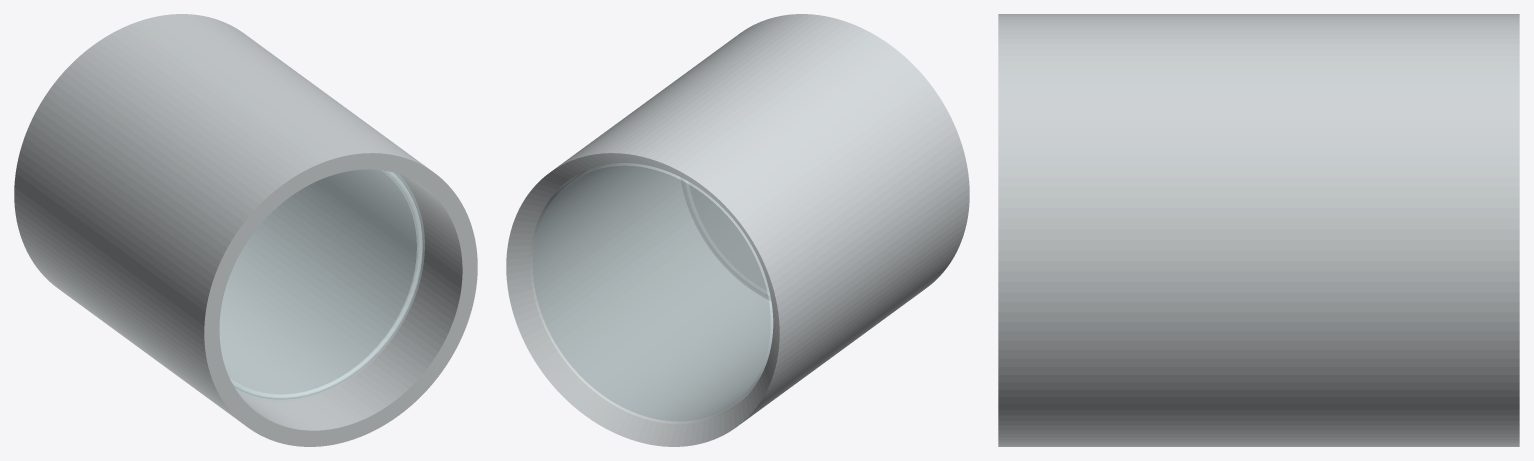
File: chomms-house-glass.glb
The picture shows the model from 3 angles, left to right: view 1: azimuth 30°, elevation 25°; view 2: azimuth 150°, elevation 25°; view 3: azimuth 270°, elevation 25°; orthographic projection. The views are drawn at different scales.
Parts seen in each view (by area): view 1: Glass_Vessel, Water, Water_Meniscus; view 2: Glass_Vessel, Water, Water_Meniscus; view 3: Glass_Vessel.
Boxes of the visible parts, bbox=[...] form: Glass_Vessel: bbox=[14, 14, 477, 446]; Water: bbox=[219, 169, 424, 402]; Water_Meniscus: bbox=[230, 170, 422, 399]; Glass_Vessel: bbox=[506, 14, 969, 446]; Water: bbox=[532, 163, 773, 421]; Water_Meniscus: bbox=[683, 178, 770, 298]; Glass_Vessel: bbox=[998, 14, 1519, 446].
Size of the model in its own units: 0.054 by 0.054 by 0.065.
